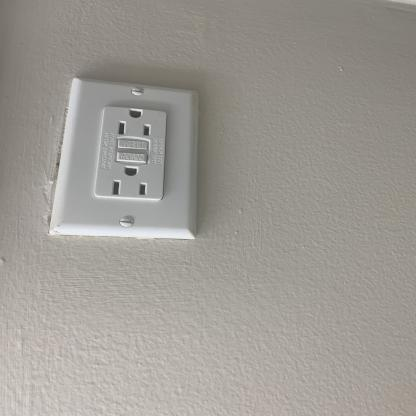OUTLET: (47, 86, 202, 238)
